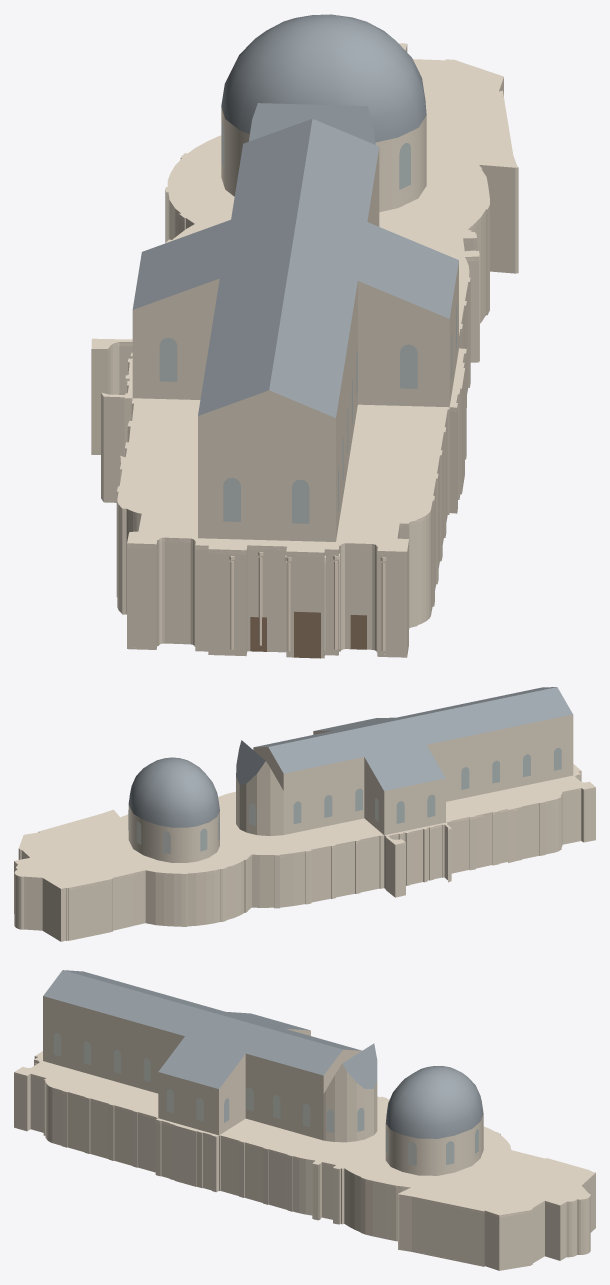
3 renders of one model, top to bottom at view 1: azimuth 30°, elevation 25°; view 2: azimuth 150°, elevation 25°; view 3: azimuth 270°, elevation 25°, orthographic. The views are drawn at different scales.
Parts seen in each view (by area): view 1: stone, roof, window, trim, metal; view 2: stone, roof, window, trim; view 3: stone, roof, window, trim.
Part boxes in pixels (bbox=[...]): stone: bbox=[91, 43, 518, 658]; roof: bbox=[132, 14, 458, 417]; window: bbox=[159, 121, 456, 523]; trim: bbox=[101, 47, 518, 651]; metal: bbox=[250, 611, 366, 658]; stone: bbox=[14, 714, 595, 941]; roof: bbox=[128, 687, 572, 827]; window: bbox=[128, 748, 561, 853]; trim: bbox=[14, 772, 595, 889]; stone: bbox=[14, 996, 595, 1270]; roof: bbox=[43, 970, 483, 1138]; window: bbox=[53, 1033, 478, 1165]; trim: bbox=[14, 1061, 595, 1217].
Bounding box in the file's own units: 90.28 × 30 × 114.
